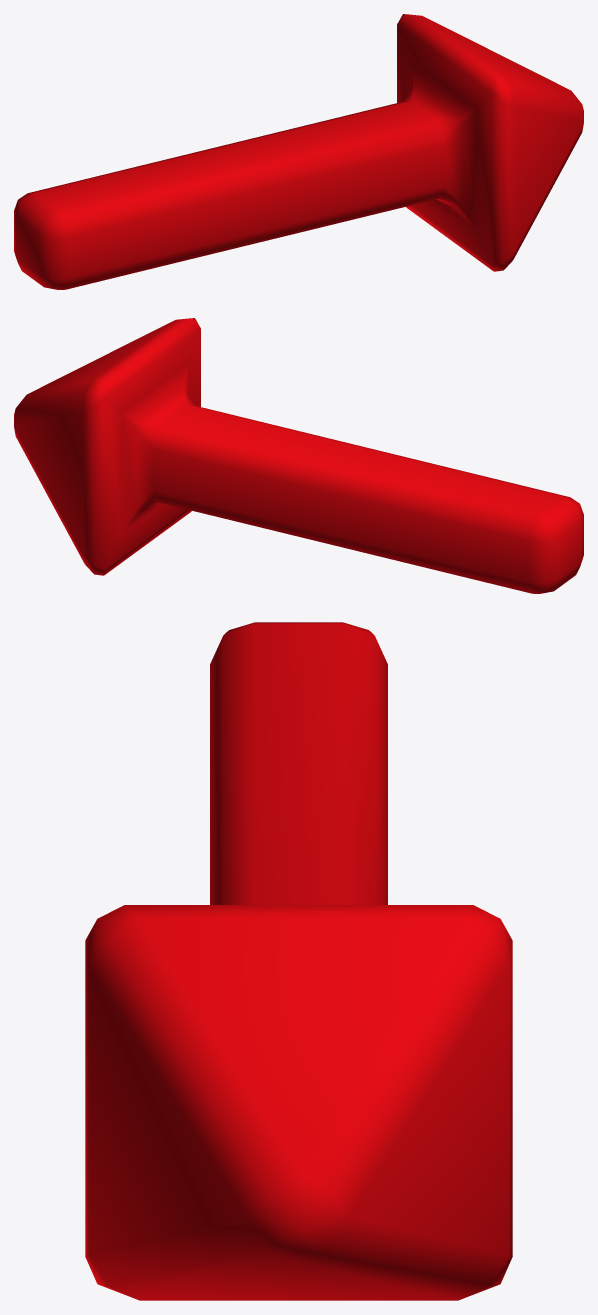
Rendered from Arrow.fbx.
3 renders of one model, top to bottom at view 1: azimuth 30°, elevation 25°; view 2: azimuth 150°, elevation 25°; view 3: azimuth 270°, elevation 25°, orthographic. The views are drawn at different scales.
Parts seen in each view (by area): view 1: Cube; view 2: Cube; view 3: Cube.
Part boxes in pixels (x1,y1,x2,y2): Cube: (14, 14, 583, 289); Cube: (14, 318, 583, 593); Cube: (85, 622, 512, 1300).
Bounding box in the file's own units: 801 × 266 × 266.
